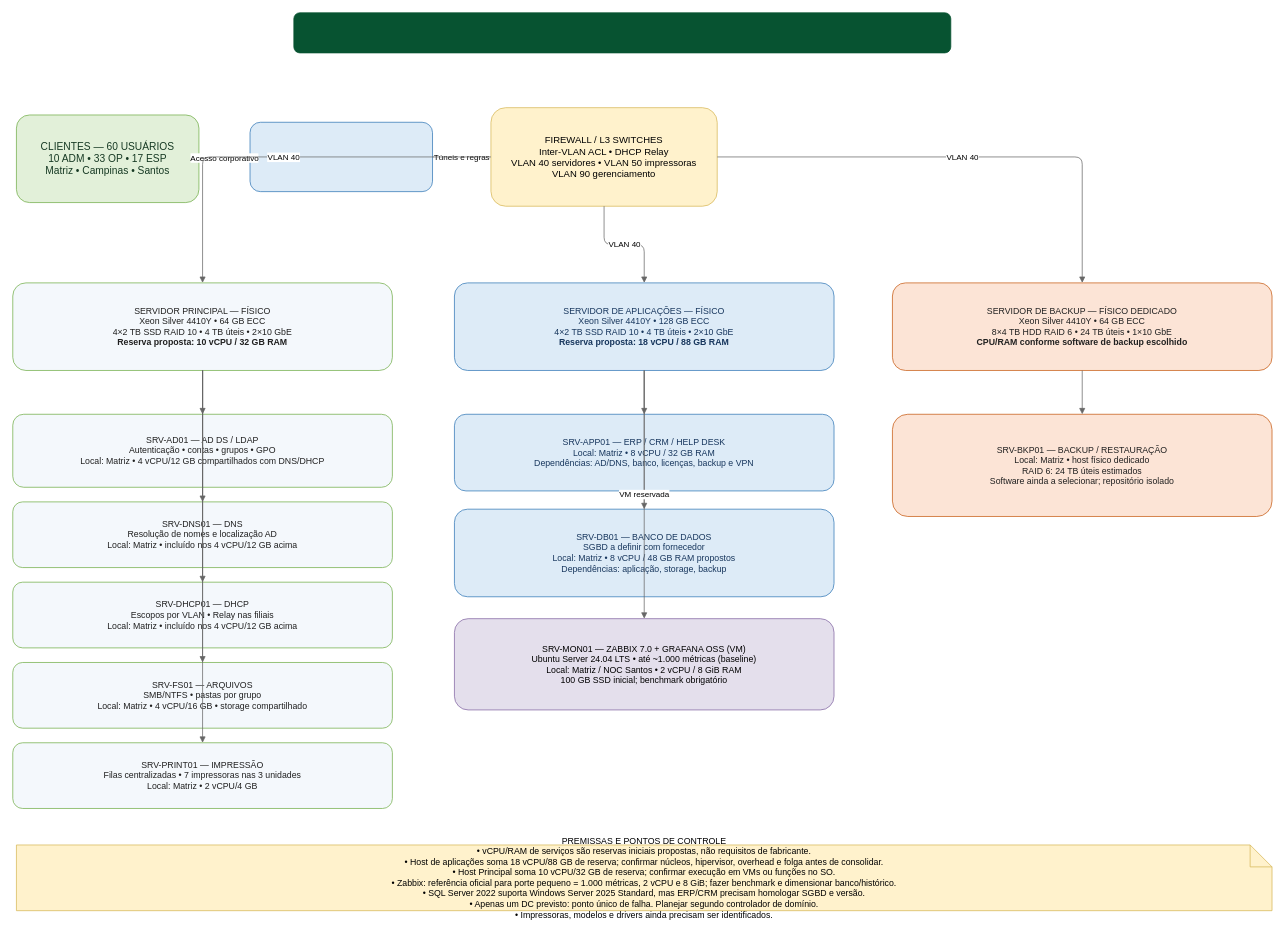
Image size: 1285x932. Some labels were removed from this diagram. The centre of each missing label's shape, as x and y in pixels:
"ETAPA 4 — SERVIÇOS DIMENSIONADOS | TECHSTORE" goes at [622,32].
"VPN SITE-TO-SITE Campinas / Santos ↔ Matriz" goes at [341,157].
